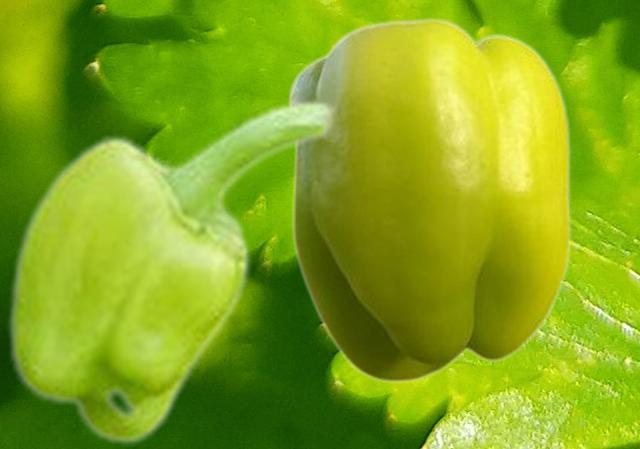bell_pepper: (6, 97, 336, 445), (287, 16, 570, 382)
